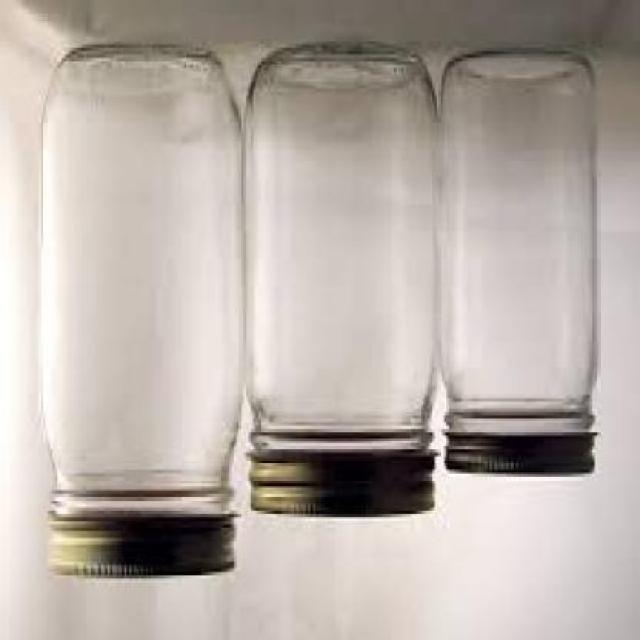GLASS: (41, 47, 248, 518), (250, 58, 447, 456), (442, 55, 602, 436)
METAL: (51, 518, 238, 579), (253, 466, 439, 517), (446, 432, 597, 477)
